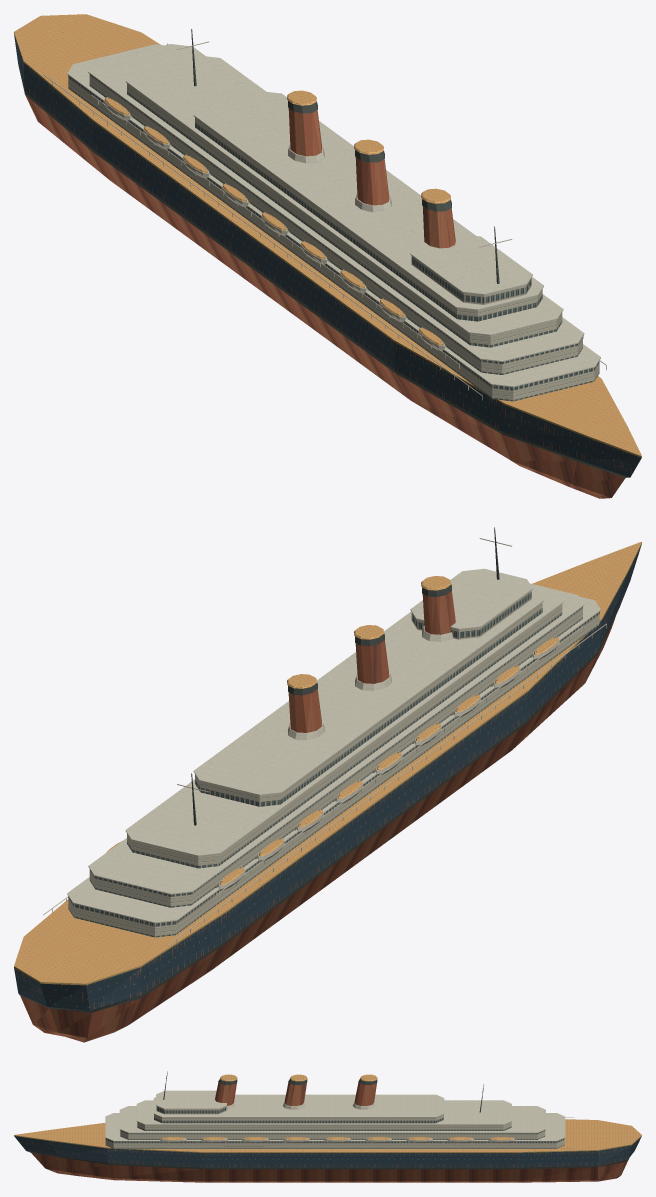
The model's file is ss-copperwake-laid-up-mid.glb.
The picture shows the model from 3 angles, top to bottom: view 1: azimuth 30°, elevation 25°; view 2: azimuth 150°, elevation 25°; view 3: azimuth 270°, elevation 25°; orthographic projection. The views are drawn at different scales.
Visible parts, largest first — view 1: superstructure, hull, funnels_and_rigging; view 2: superstructure, hull, funnels_and_rigging; view 3: hull, superstructure, funnels_and_rigging.
Boxes of the visible parts, bbox=[...] form: superstructure: bbox=[43, 43, 606, 401]; hull: bbox=[14, 14, 641, 498]; funnels_and_rigging: bbox=[177, 29, 512, 283]; superstructure: bbox=[43, 568, 606, 945]; hull: bbox=[14, 541, 641, 1042]; funnels_and_rigging: bbox=[177, 527, 511, 825]; hull: bbox=[14, 1119, 641, 1182]; superstructure: bbox=[105, 1090, 573, 1148]; funnels_and_rigging: bbox=[163, 1071, 483, 1112].
Bounding box in the file's own units: 33.4 × 46.59 × 260.
7 materials, 7 textured.
